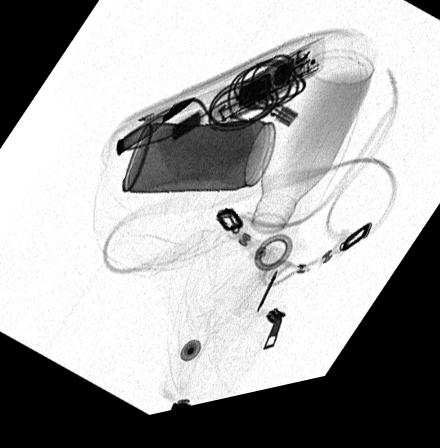Bullet: (114, 104, 195, 159)
